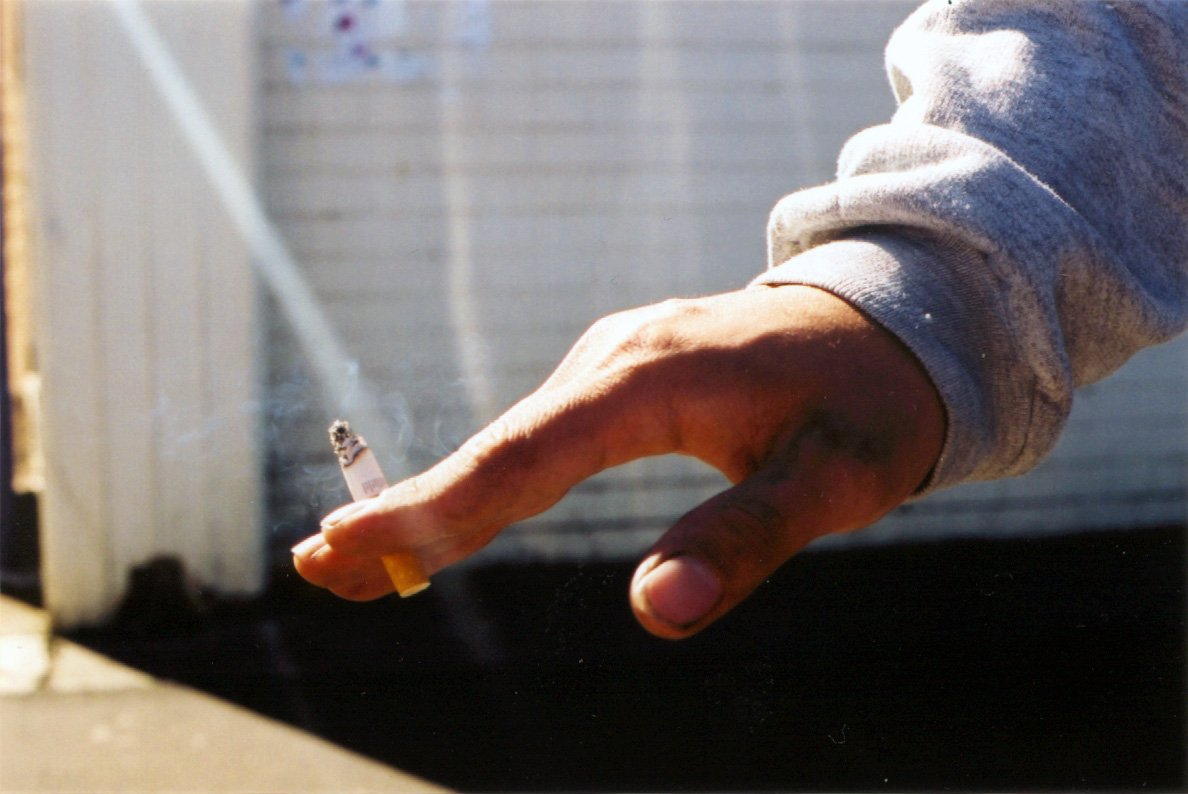cigarette: (328, 413, 432, 600)
